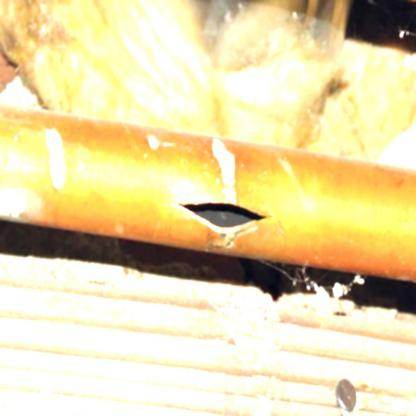burst: (172, 178, 267, 258)
